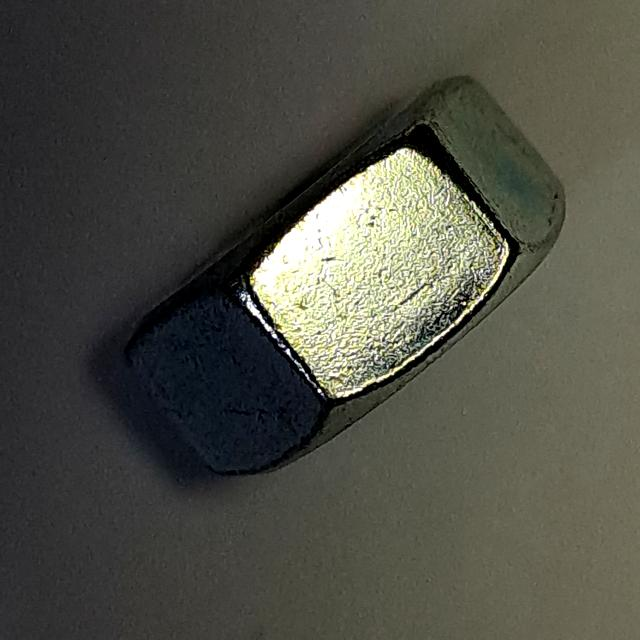Side_Excellent: (114, 65, 578, 492)
